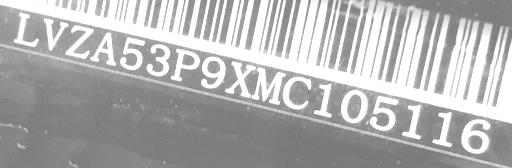letter: (459, 113, 491, 156), (250, 65, 284, 105), (281, 72, 315, 112), (337, 85, 367, 128), (369, 91, 399, 134), (88, 25, 116, 70), (226, 57, 254, 101), (428, 107, 456, 150), (118, 33, 146, 76), (171, 44, 197, 86), (399, 100, 425, 141), (66, 21, 92, 62), (200, 52, 226, 92), (12, 10, 40, 47), (311, 79, 335, 119), (147, 38, 169, 81), (42, 13, 64, 54)
